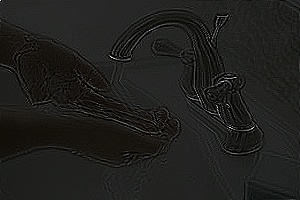washing hand: (26, 13, 217, 171)
